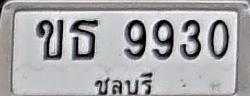0: (208, 19, 229, 59)
3: (180, 19, 201, 60)
9: (124, 19, 146, 60), (152, 19, 174, 60)
A02: (36, 19, 64, 60)
A24: (70, 18, 98, 60)
CBI: (92, 70, 159, 96)
